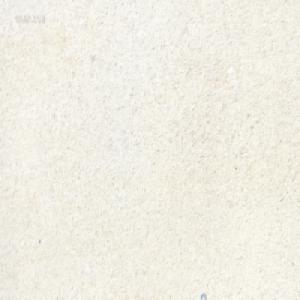Washer: (200, 292, 206, 299)
